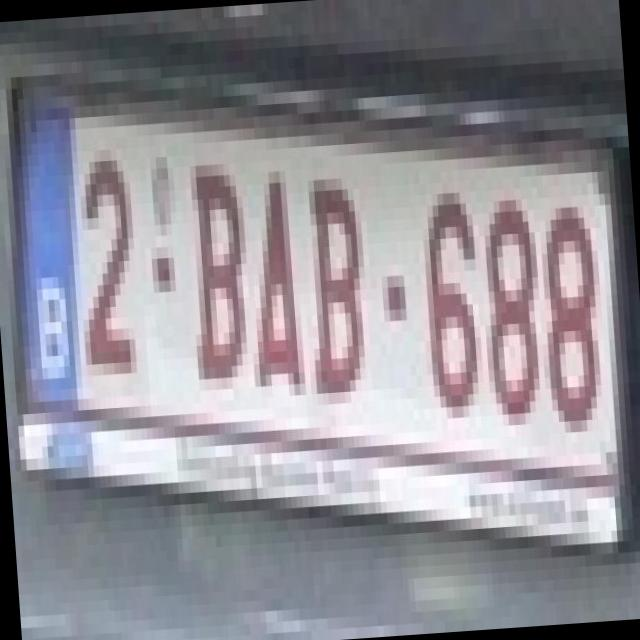2: (64, 125, 141, 365)
6: (402, 169, 479, 409)
8: (464, 176, 547, 416), (526, 183, 602, 412)
A: (228, 148, 304, 388)
B: (294, 144, 367, 394), (172, 140, 248, 380)
